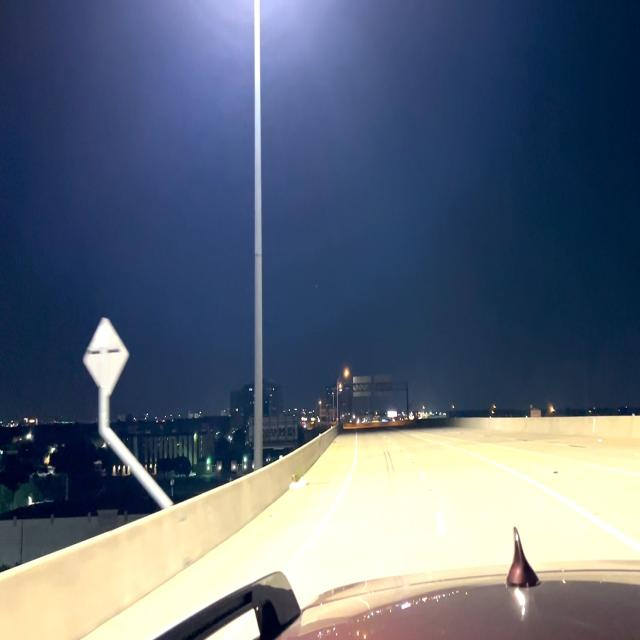back-of-sign: (85, 321, 130, 401)
